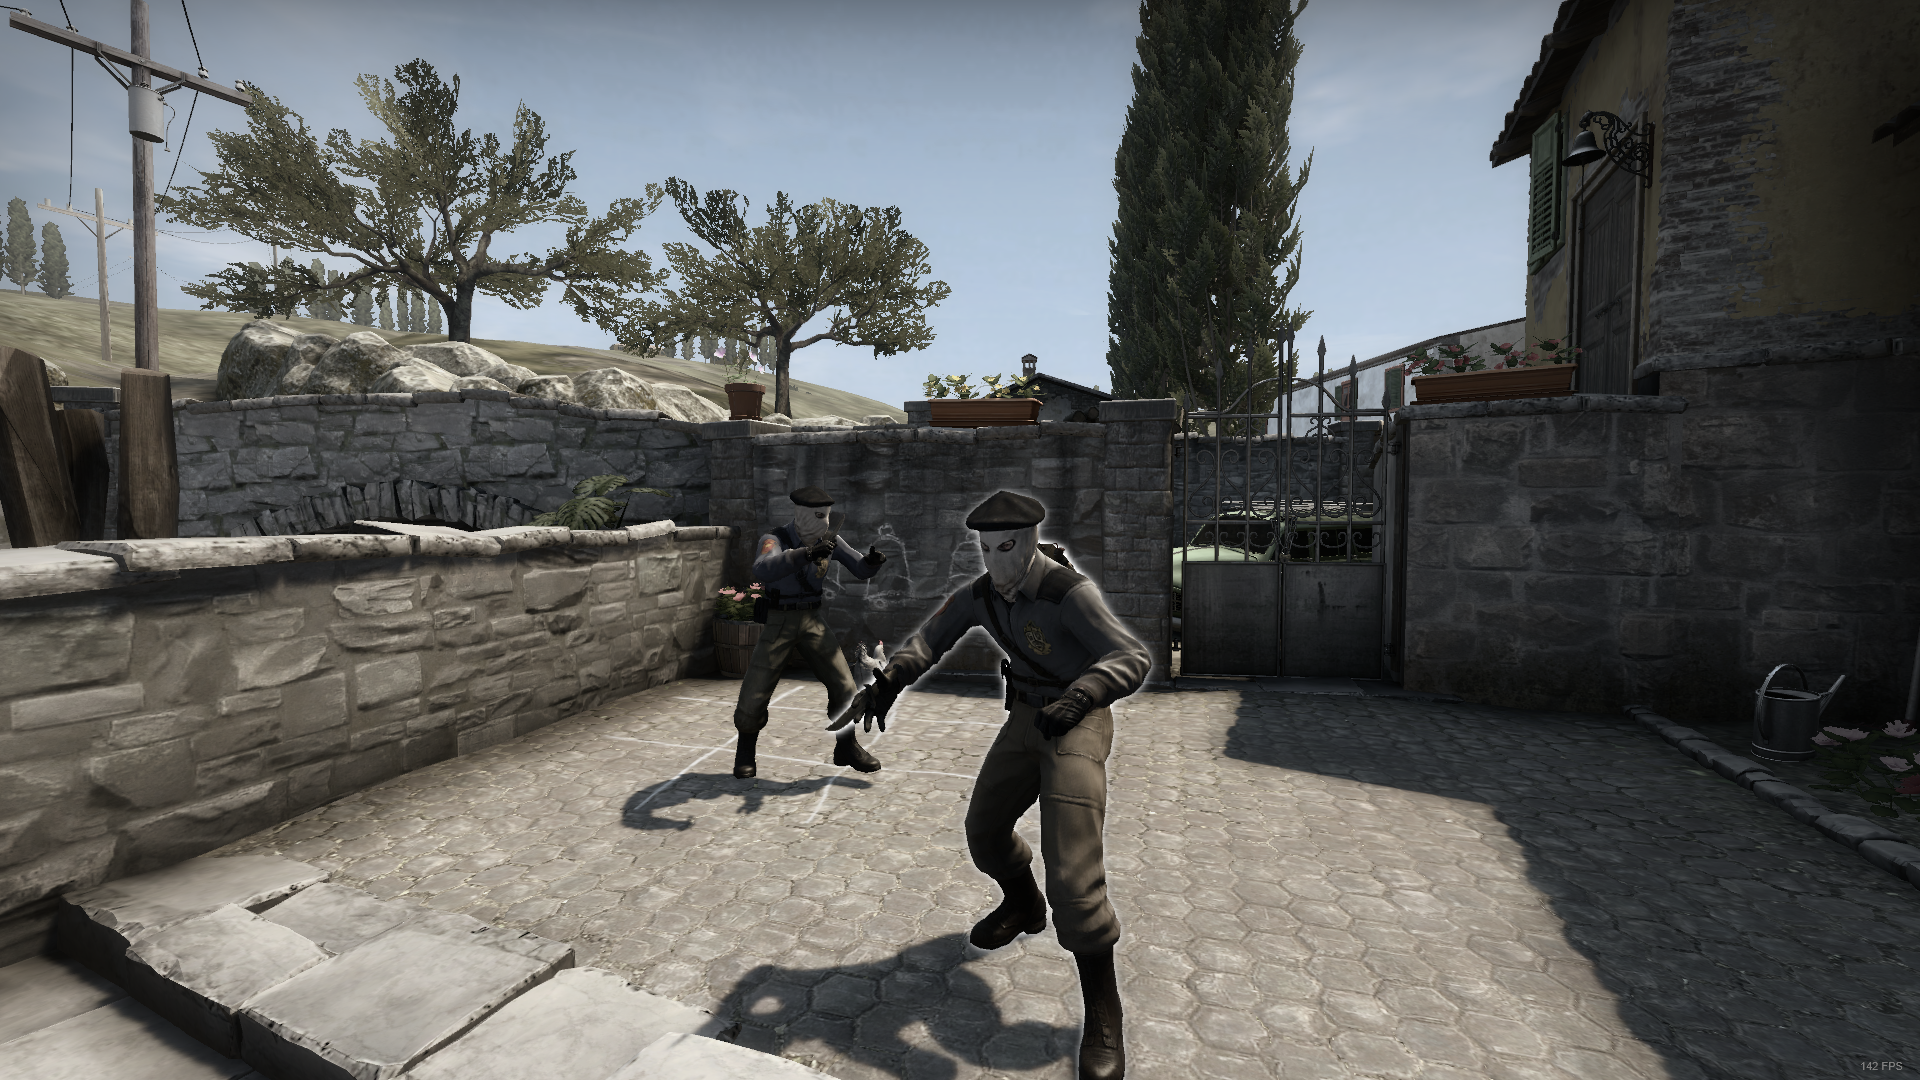t: (721, 479, 884, 781)
